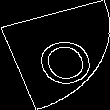O_N: (19, 24, 91, 86)
